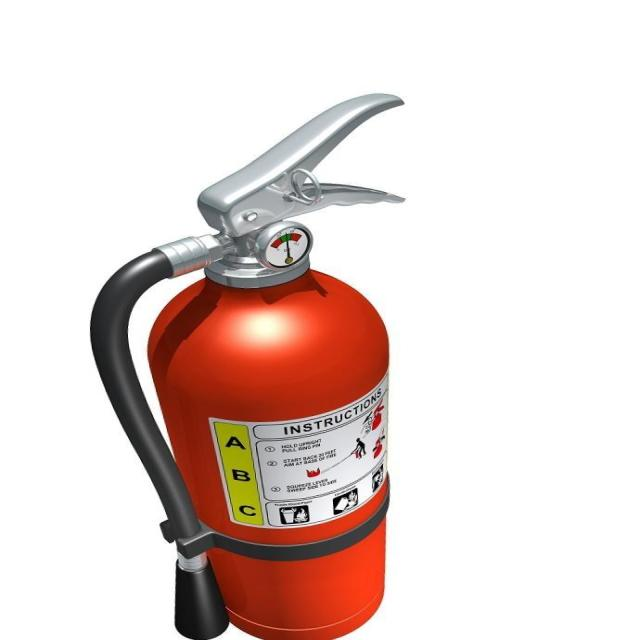fire_extinguisher: (82, 88, 418, 639)
